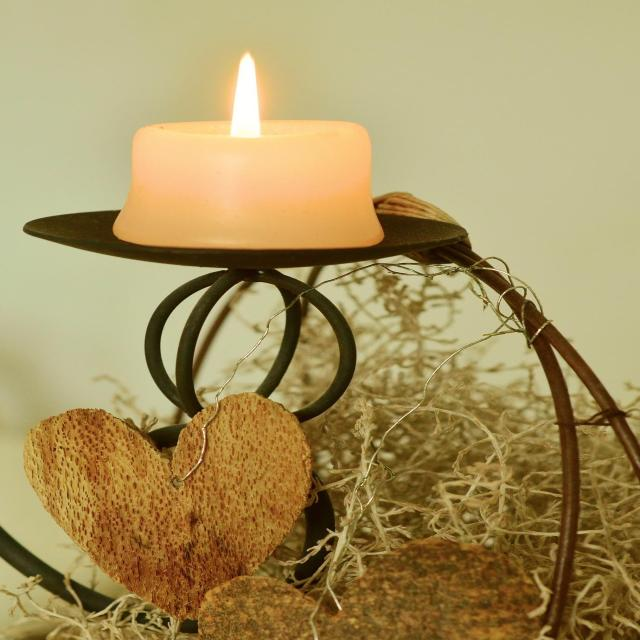Fire_Save: (111, 50, 385, 250)
